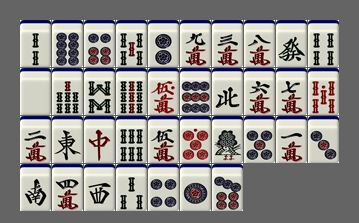0m: (148, 68, 179, 115)
0p: (180, 116, 211, 163)
0s: (308, 68, 339, 115)
1m: (276, 116, 307, 163)
1p: (180, 164, 211, 211)
1s: (212, 116, 243, 163)
1z: (52, 116, 83, 163)
2m: (20, 116, 51, 163)
2p: (148, 20, 179, 67)
2s: (20, 20, 51, 67)
2z: (20, 164, 51, 211)
3m: (212, 20, 243, 67)
3p: (308, 116, 339, 163)
3s: (116, 164, 147, 211)
3z: (84, 164, 115, 211)
4m: (52, 164, 83, 211)
4p: (148, 164, 179, 211)
4s: (308, 20, 339, 67)
4z: (212, 68, 243, 115)
5m: (148, 116, 179, 163)
5p: (244, 116, 275, 163)
5s: (116, 20, 147, 67)
5z: (20, 68, 51, 115)
6m: (244, 68, 275, 115)
6p: (84, 20, 115, 67)
6s: (116, 116, 147, 163)
6z: (276, 20, 307, 67)
7m: (276, 68, 307, 115)
7p: (212, 164, 243, 211)
7s: (52, 68, 83, 115)
7z: (84, 116, 115, 163)
8m: (244, 20, 275, 67)
8p: (52, 20, 83, 67)
8s: (84, 68, 115, 115)
9m: (180, 20, 211, 67)
9p: (180, 68, 211, 115)
9s: (116, 68, 147, 115)
